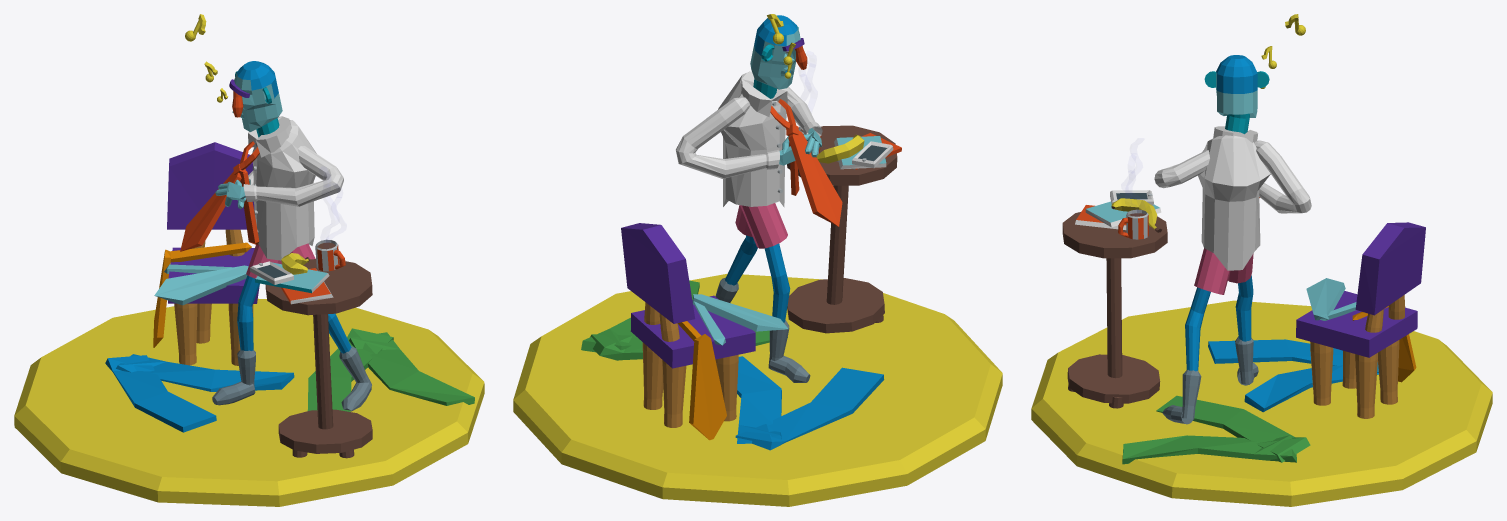
3 views of the same model, side by side, from view 1: azimuth 30°, elevation 25°; view 2: azimuth 150°, elevation 25°; view 3: azimuth 270°, elevation 25° (orthographic). The views are drawn at different scales.
Parts seen in each view (by area): view 1: node_MeshObject-1105014336-PolyPaper14, node_MeshObject-586294272-PolyPaper3; view 2: node_MeshObject-1105014336-PolyPaper14, node_MeshObject-586294272-PolyPaper3; view 3: node_MeshObject-1105014336-PolyPaper14, node_MeshObject-586294272-PolyPaper3.
Part boxes in pixels (x1,y1,x2,y2): node_MeshObject-1105014336-PolyPaper14: (14, 14, 484, 506); node_MeshObject-586294272-PolyPaper3: (193, 20, 474, 458); node_MeshObject-1105014336-PolyPaper14: (513, 14, 1002, 506); node_MeshObject-586294272-PolyPaper3: (581, 19, 901, 360); node_MeshObject-1105014336-PolyPaper14: (1031, 14, 1492, 506); node_MeshObject-586294272-PolyPaper3: (1062, 19, 1311, 464).
Size of the model in its own units: 2.19 by 2.03 by 2.19.
